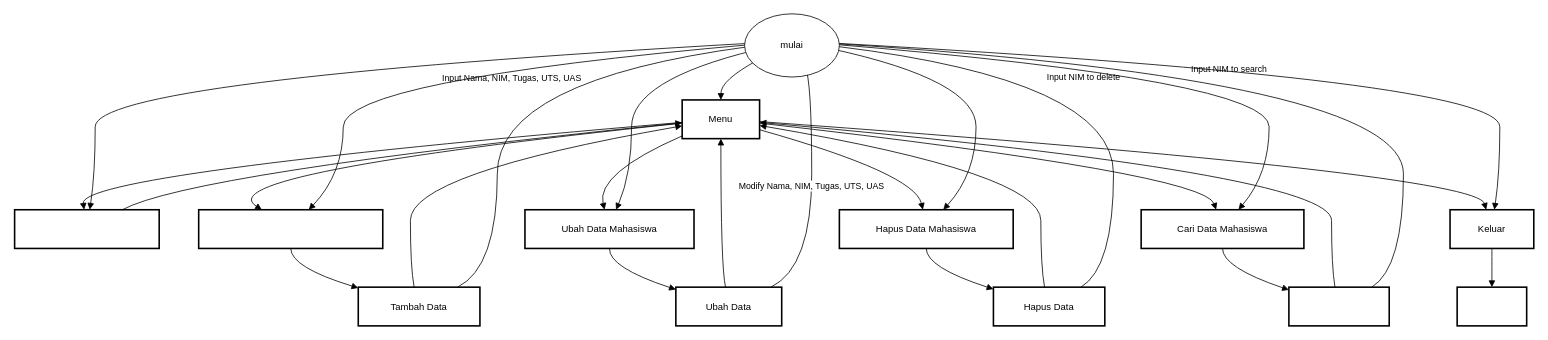
The diagram is 1548 pixels wide and 340 high, and some of its shapes have lost their labels. Each missing label, with the box of its shape:
Cari Data: (1288, 286, 1390, 326)
Exit: (1456, 286, 1527, 326)
Lihat Daftar Nilai: (13, 209, 160, 249)
Tambah Data Mahasiswa: (198, 209, 383, 249)
